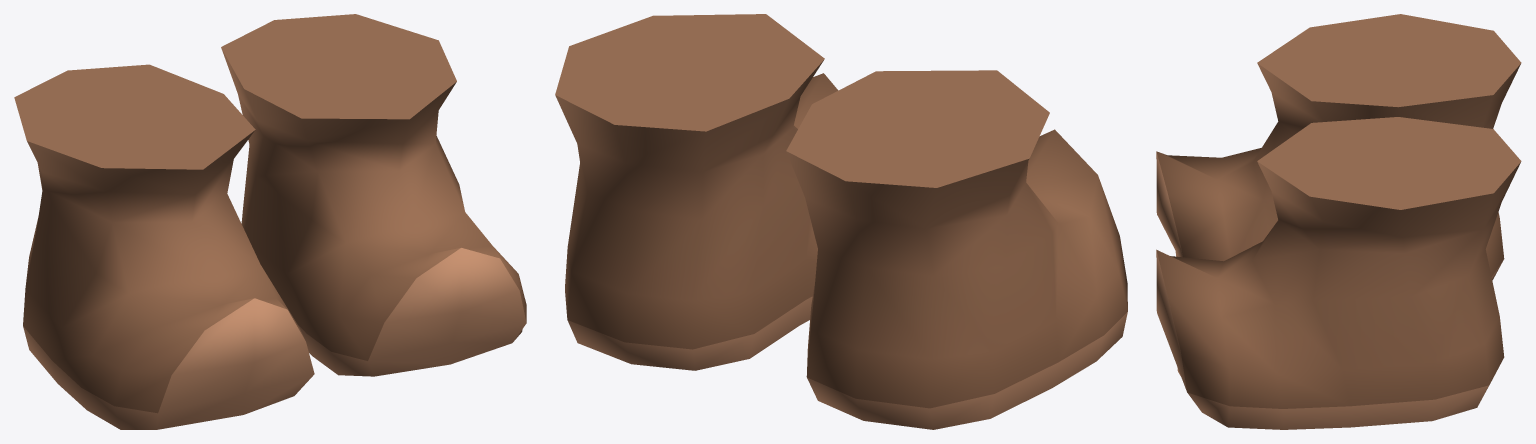
File: Shoes_3.fbx
The picture shows the model from 3 angles, left to right: view 1: azimuth 30°, elevation 25°; view 2: azimuth 150°, elevation 25°; view 3: azimuth 270°, elevation 25°; orthographic projection. The views are drawn at different scales.
Parts seen in each view (by area): view 1: Shoes_3; view 2: Shoes_3; view 3: Shoes_3.
Part boxes in pixels (bbox=[...]): Shoes_3: bbox=[14, 14, 526, 429]; Shoes_3: bbox=[555, 14, 1127, 429]; Shoes_3: bbox=[1156, 14, 1521, 429].
Size of the model in its own units: 42.53 by 21.61 by 32.51.
